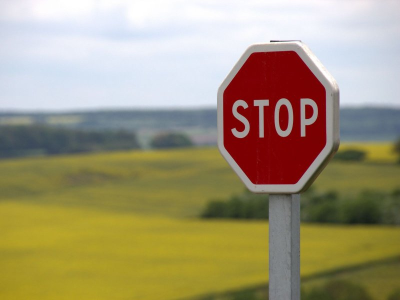stop: (224, 64, 324, 169)
